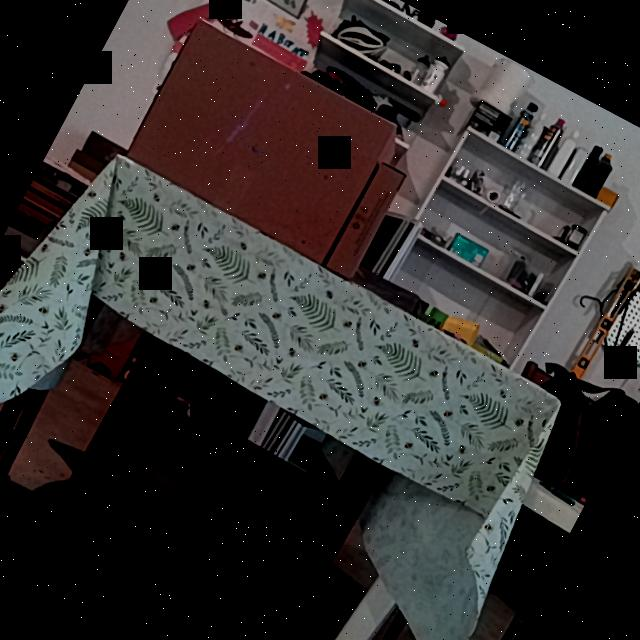box: (125, 16, 396, 260), (324, 160, 408, 281)
